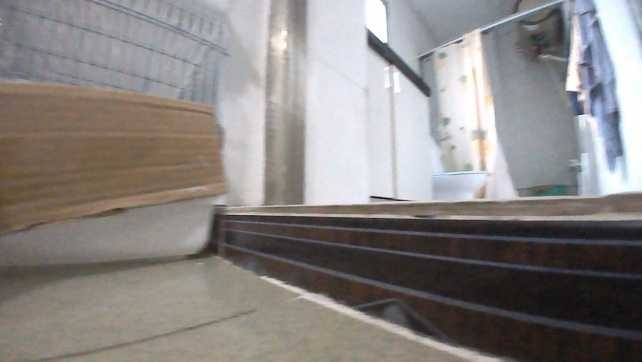door_sill: (213, 194, 641, 361)
toilet: (427, 135, 490, 200)
